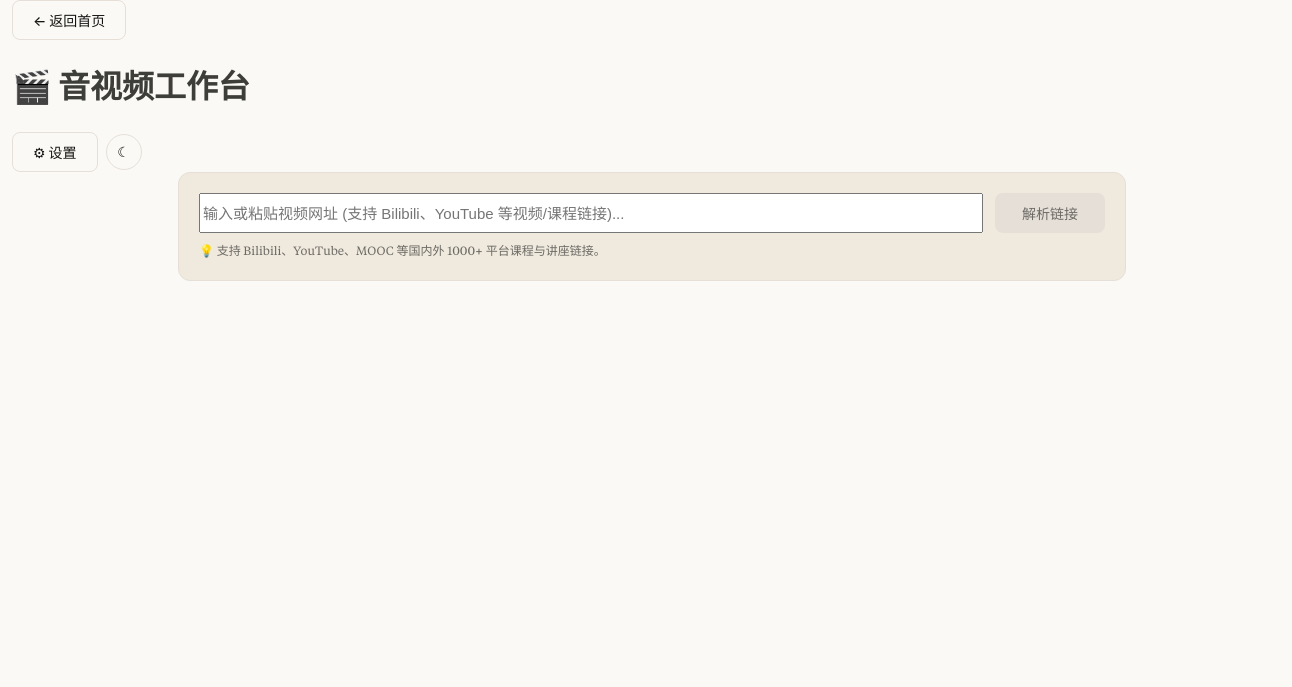
Test case: MediaDownloaderPanel › extracts subtitles and imports to notebook
In the field with placeholder "输入或粘贴视频网址 (支持 Bilibili、YouTube 等视频/课程链接)...": [591, 214] box [199, 194, 983, 234], type "https://example.com/watch?v=abc12345"
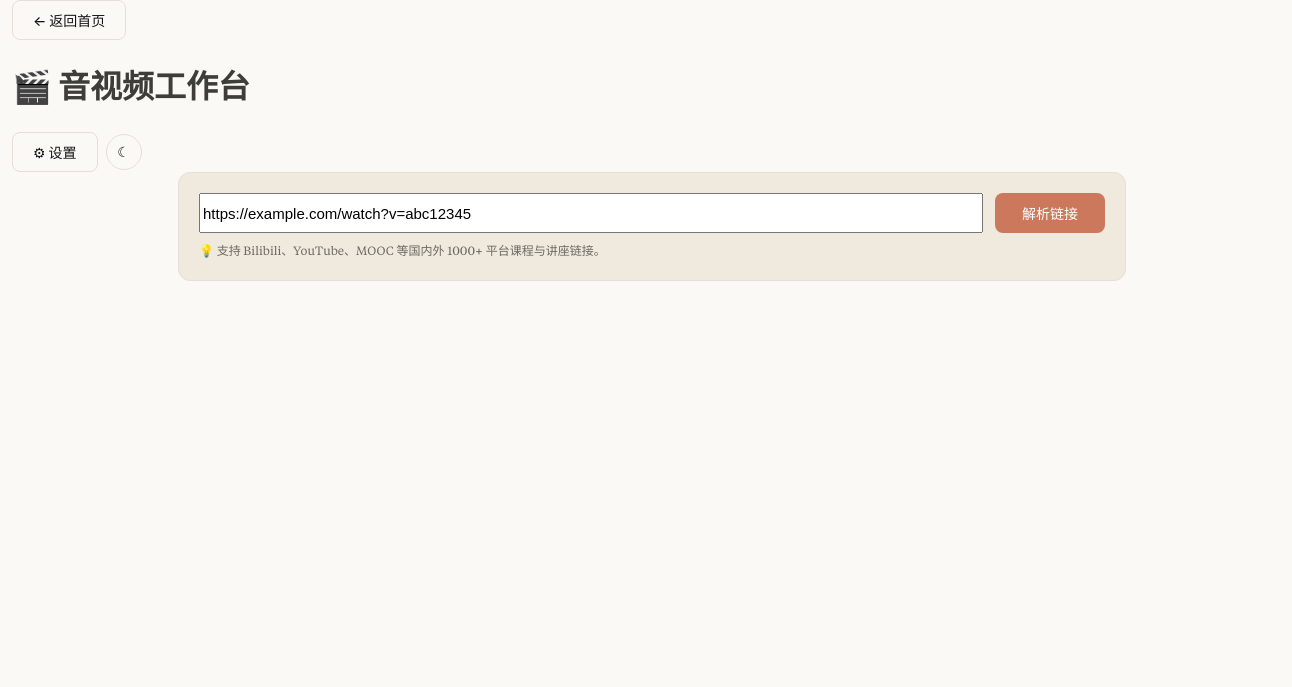
Click the button "解析链接": [1050, 214] box [995, 194, 1105, 234]
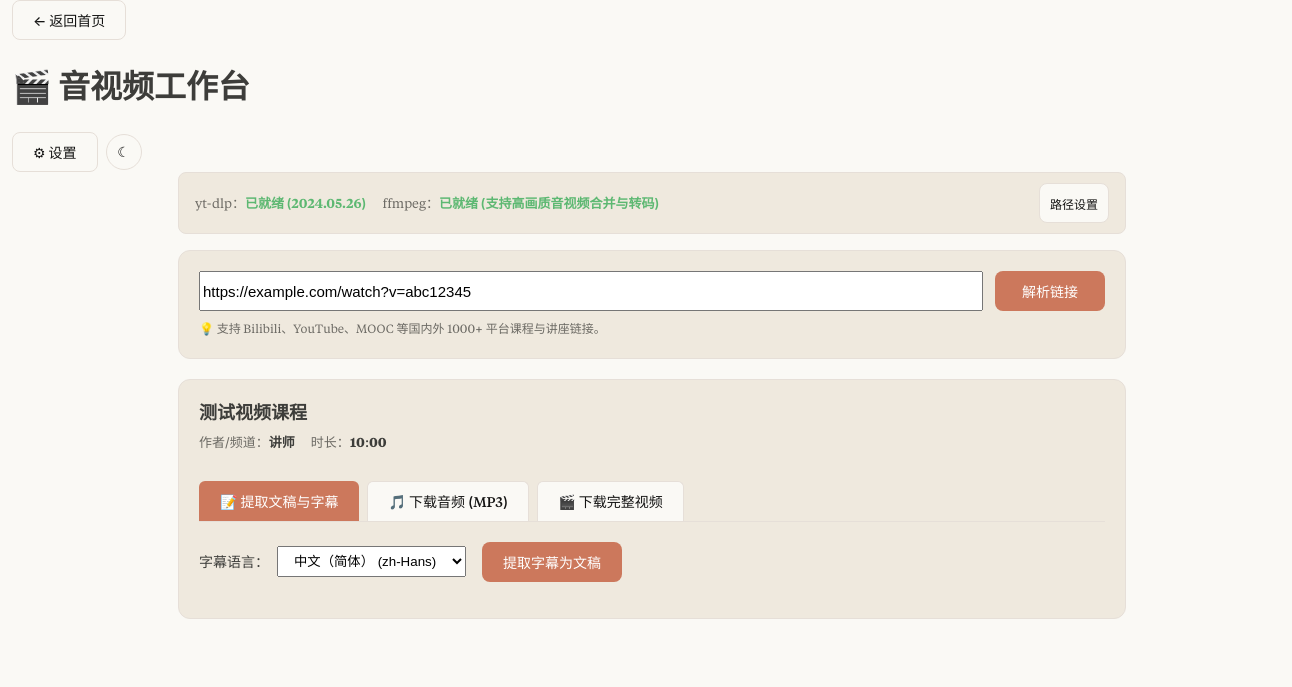
Check: the heading "测试视频课程" is shown, box [199, 400, 307, 424]
// Click extract subtitles
Click the button "提取字幕为文稿": [552, 562] box [482, 542, 622, 582]
(page scrolled)
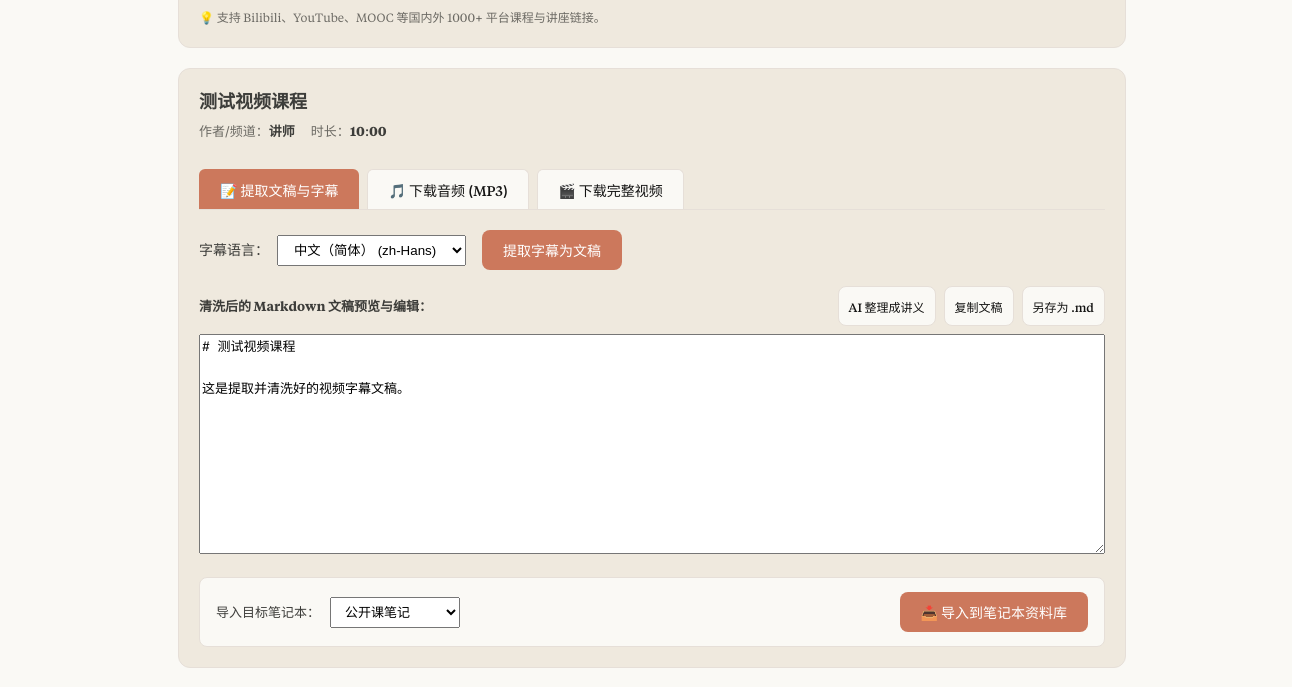
Check: the text box showing "这是提取并清洗好的视频字幕文稿" is shown, box [199, 334, 1105, 554]
// Click import to notebook
Click the button "📥 导入到笔记本资料库": [994, 612] box [900, 592, 1088, 632]
(page scrolled)
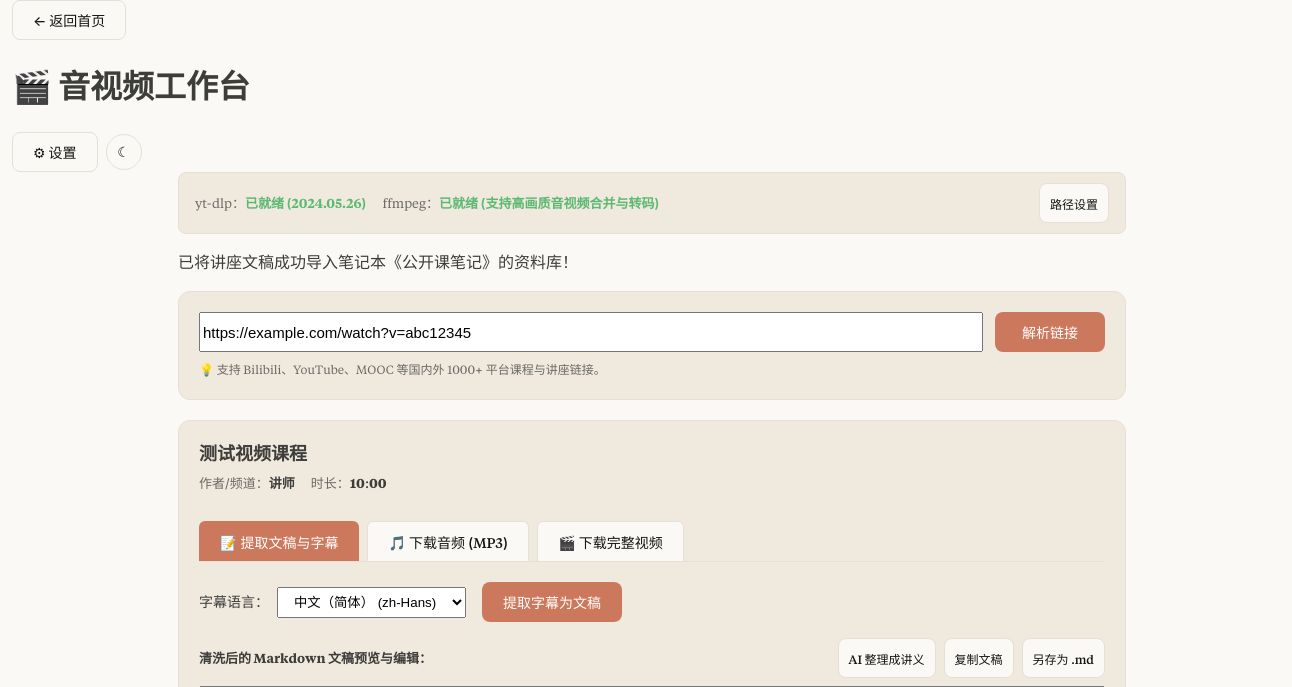
Check: the text "已将讲座文稿成功导入笔记本《公开课笔记》的资料库！" is shown, box [178, 252, 578, 272]
